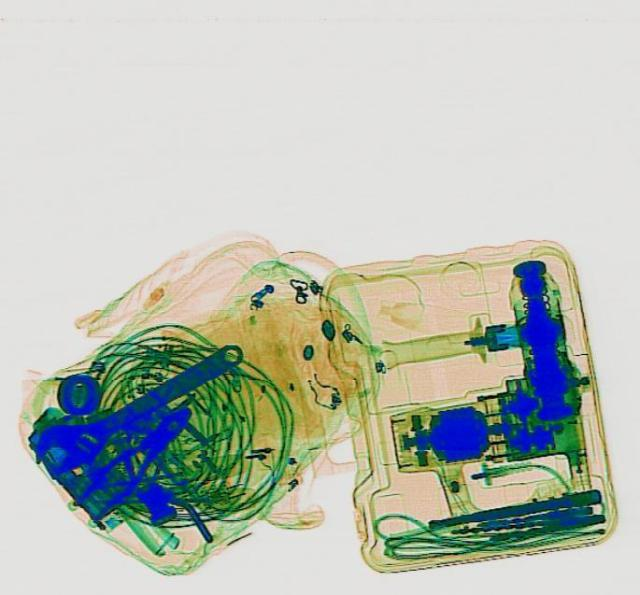Pliers: (64, 393, 206, 524)
Wrench: (19, 327, 258, 485)
